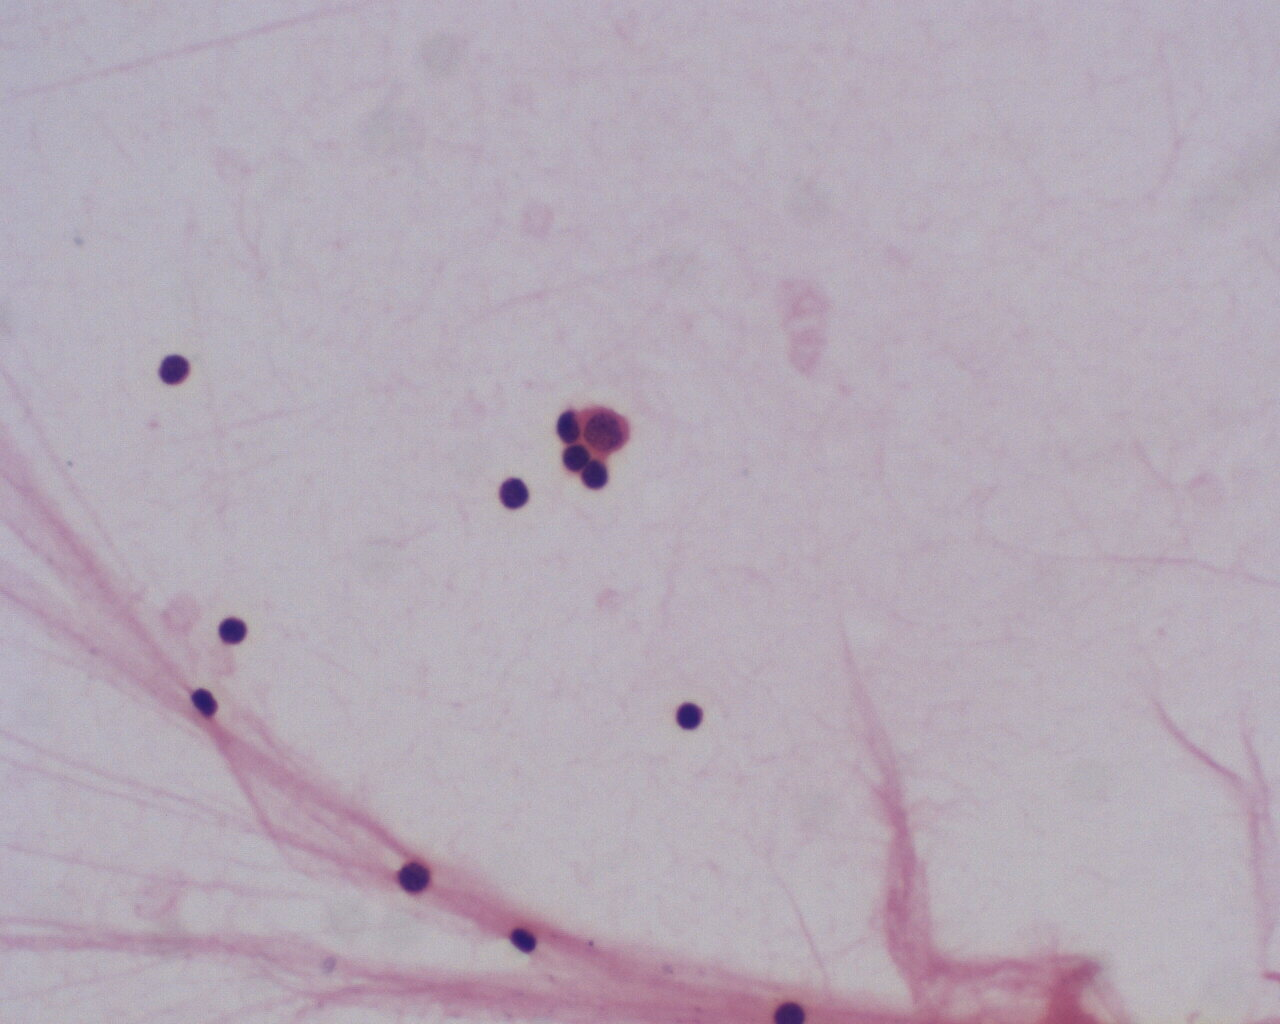ab: (579, 400, 629, 458)
lymph: (211, 616, 257, 653), (496, 466, 531, 514), (154, 350, 189, 388), (676, 698, 705, 734)
